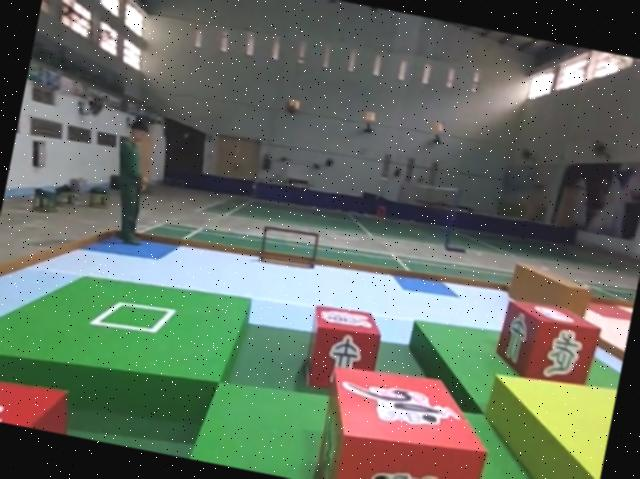R1: (312, 356, 499, 479)
R2 Fake: (492, 294, 601, 392)
R2 Real: (0, 368, 86, 436)
